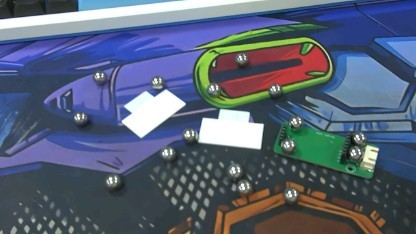ironball: (232, 178, 252, 197), (102, 171, 121, 191), (284, 181, 301, 203), (266, 79, 284, 99), (71, 108, 88, 127), (181, 123, 197, 143), (155, 144, 173, 161), (204, 82, 222, 99), (148, 73, 167, 89), (276, 137, 294, 153), (224, 163, 242, 179), (349, 128, 366, 144), (92, 69, 108, 83), (347, 143, 361, 158), (287, 113, 301, 128), (234, 49, 248, 63)
